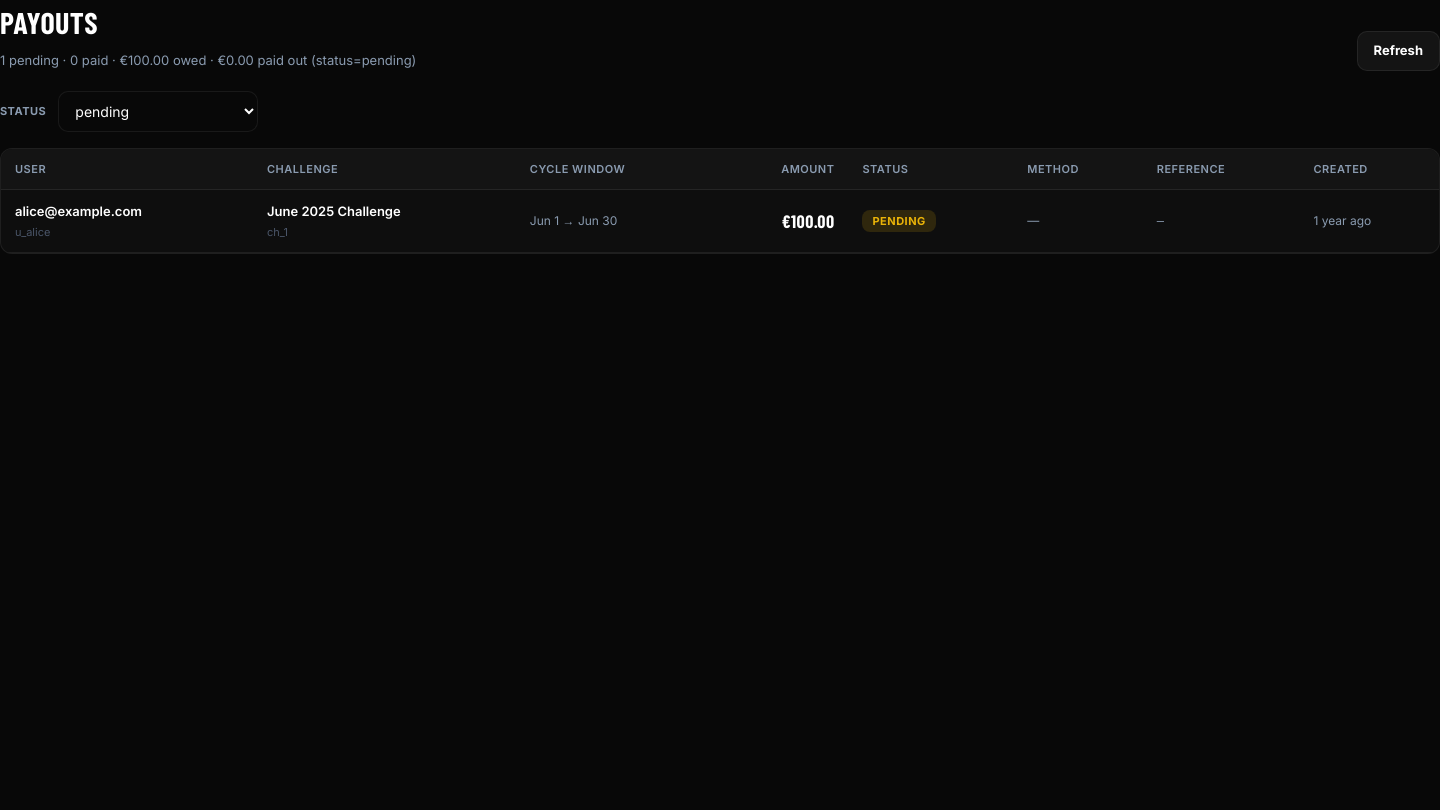
PayoutsPage - re-auth gate on mark-as-paid › aborts and surfaces an error when the operator cancels re-auth
Click the text "June 2025 Challenge" at (720, 221), box [1,190,1439,252]
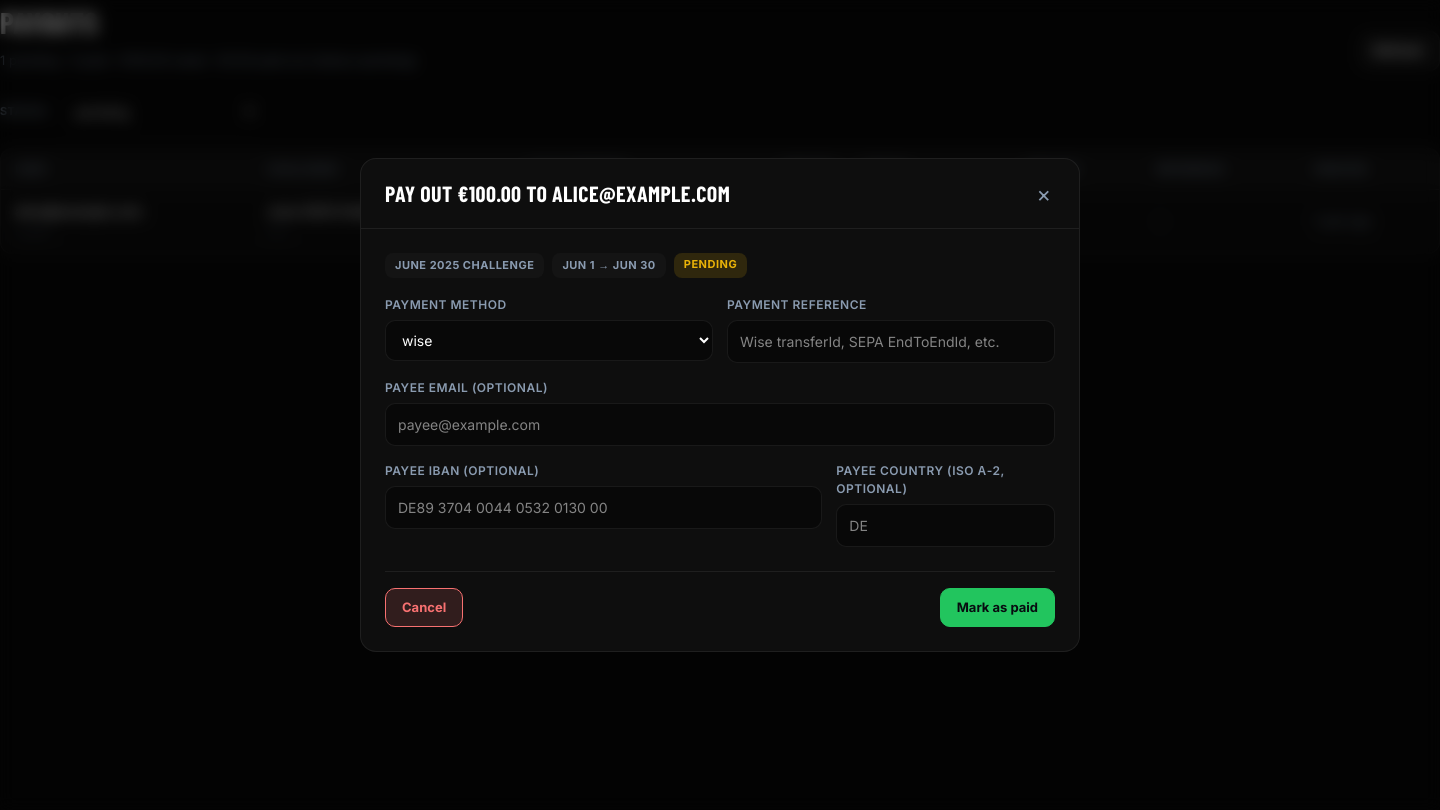
Result: the button "Mark as paid" is shown at [940,588,1055,627]
Type "TX-12345" into the field with placeholder "Wise transferId, SEPA EndToEndId, etc." at (891, 341), box [727,320,1055,362]
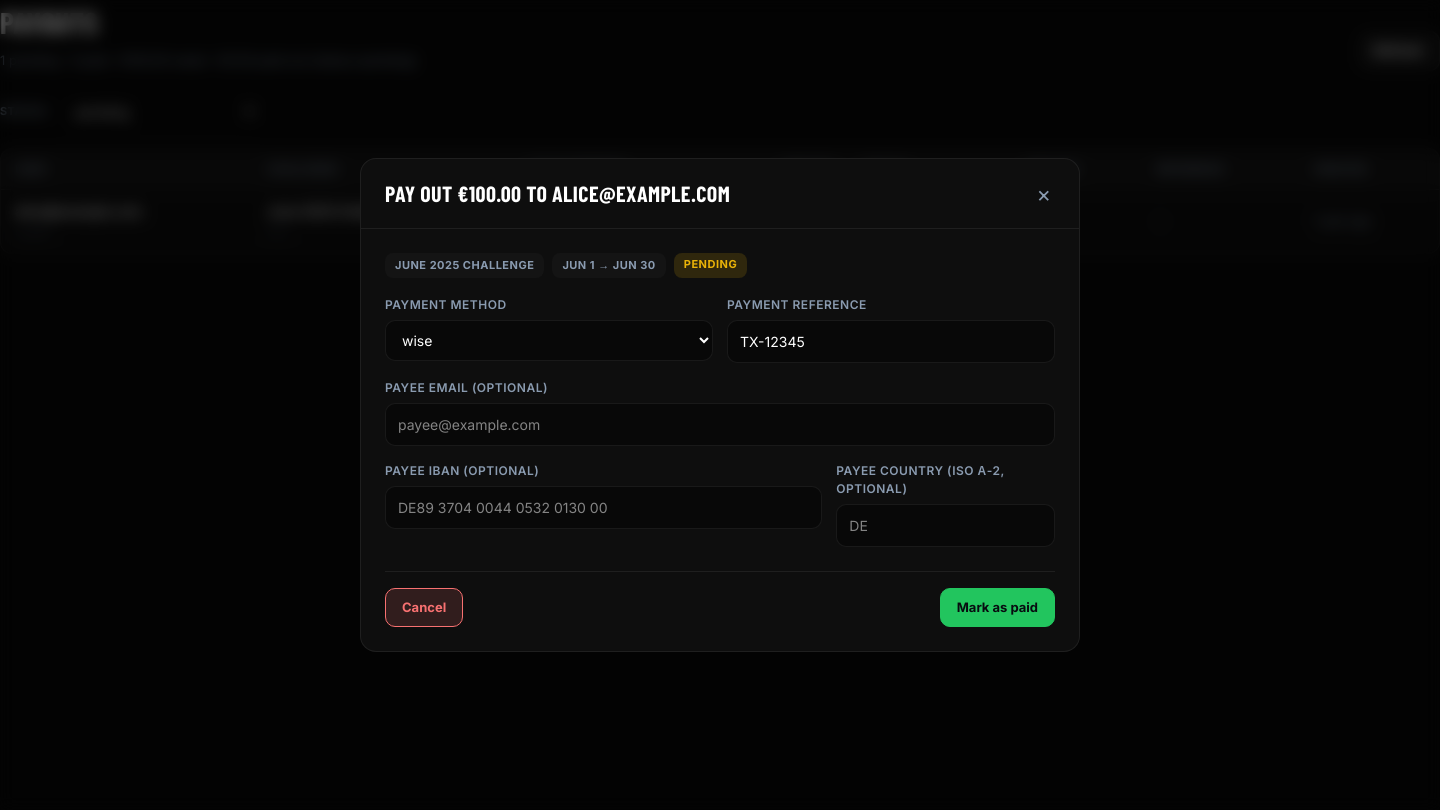
Click the button "Mark as paid" at (997, 607), box [940,588,1055,627]
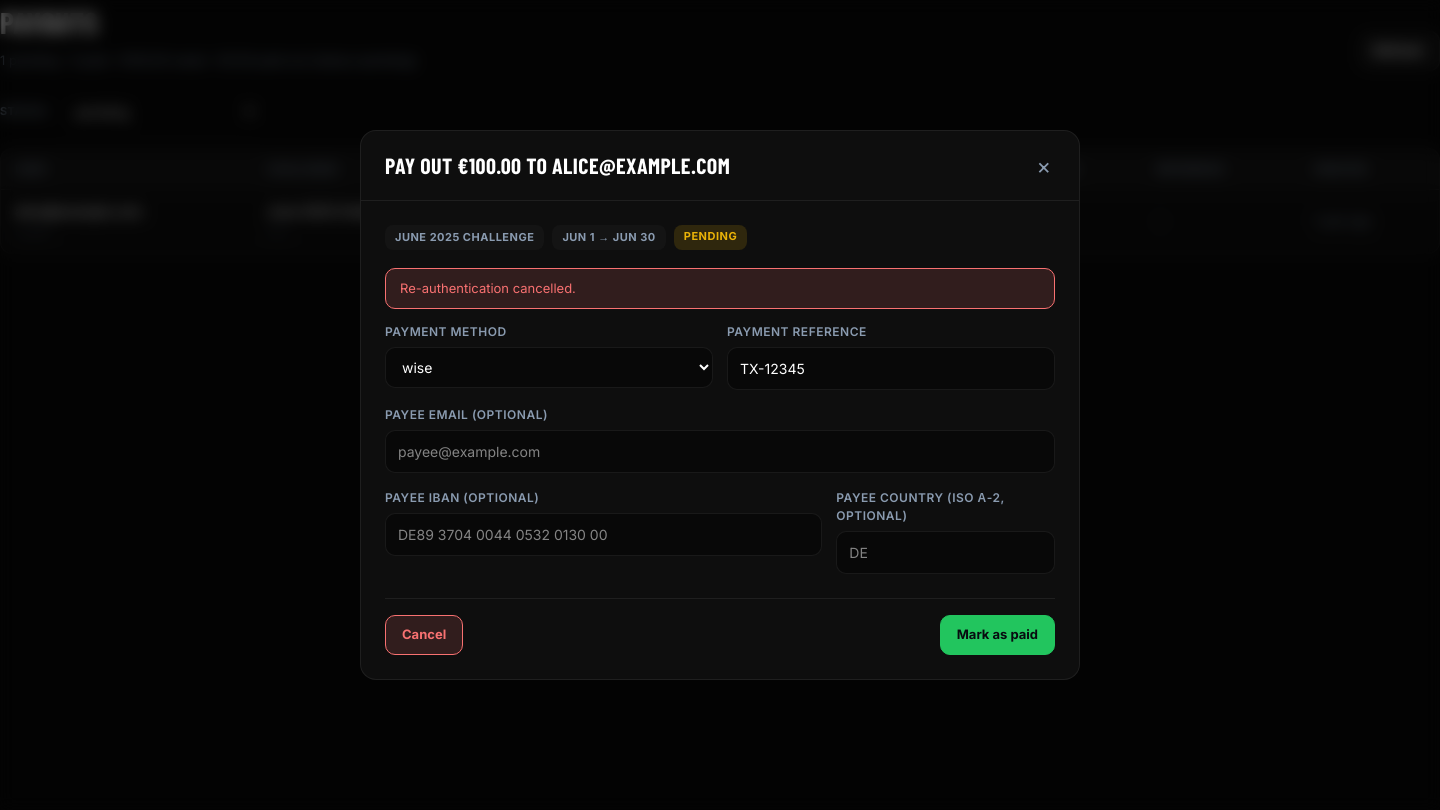
Result: the text "Re-authentication cancelled." is shown at [385,268,1055,309]
